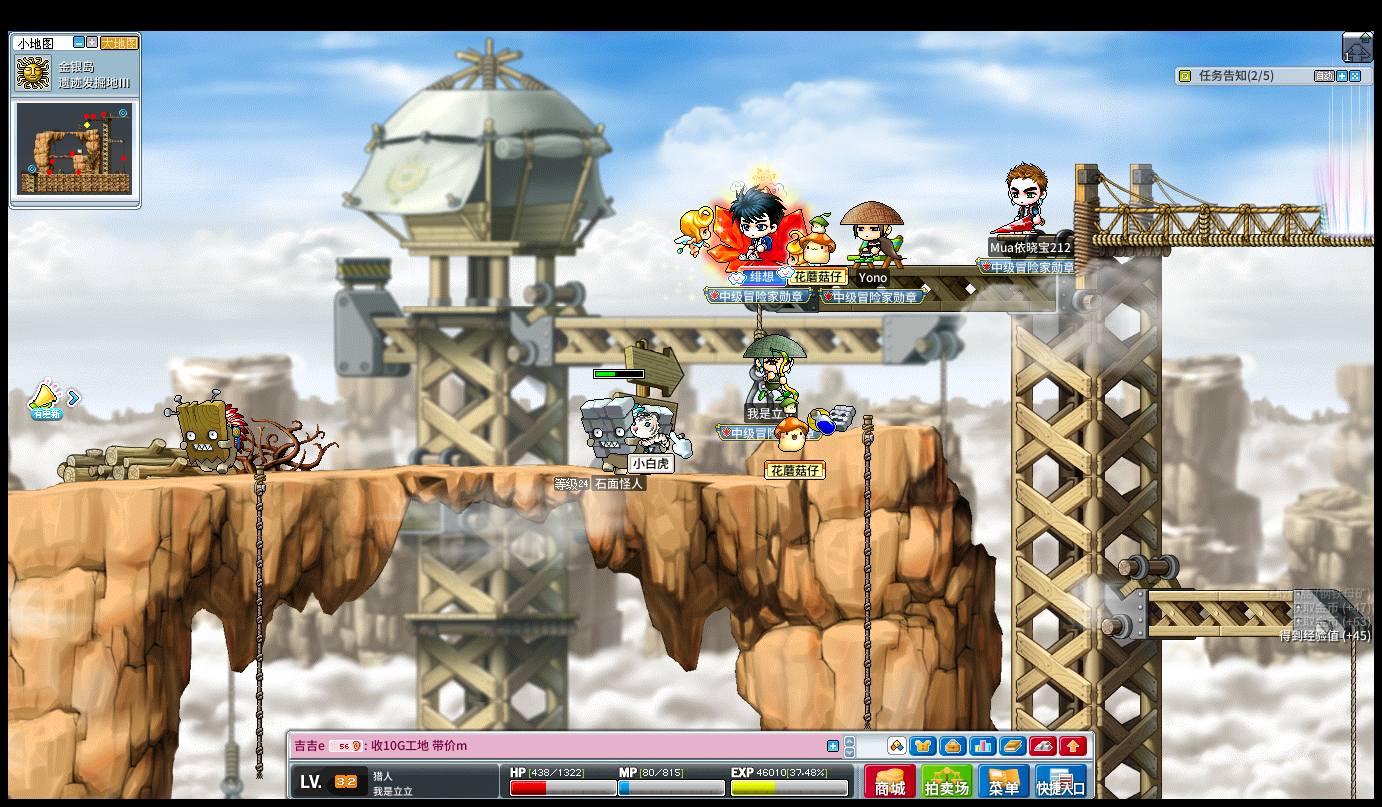floor: (25, 459, 858, 491), (1146, 586, 1360, 604)
monster: (168, 392, 247, 476), (580, 395, 635, 470)
rope: (251, 462, 265, 782), (860, 412, 874, 724), (1349, 651, 1364, 789), (860, 621, 873, 725)
